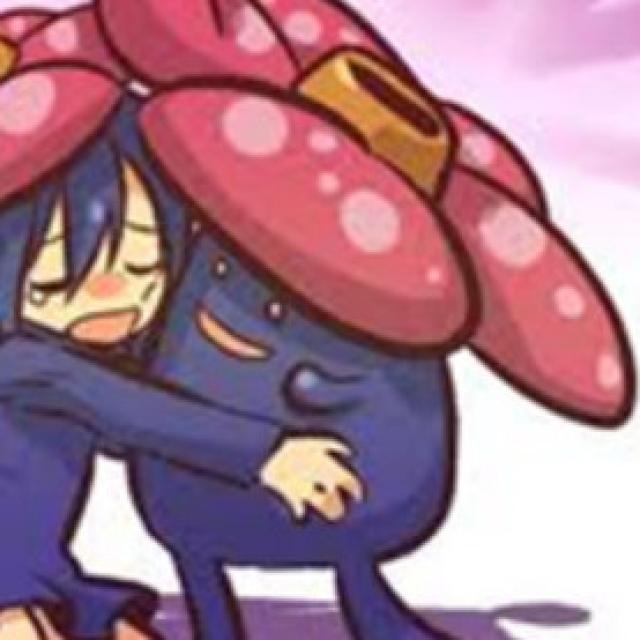Vileplume: (136, 48, 493, 632)
